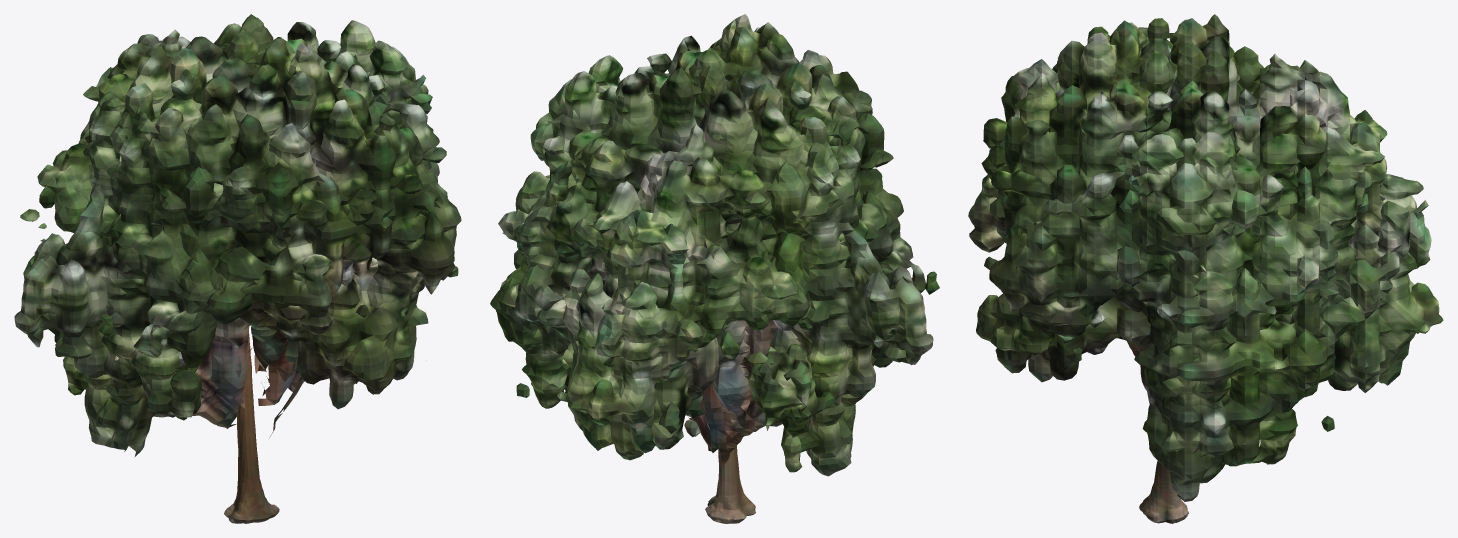
Rendered from tall_tree_giant.glb.
The picture shows the model from 3 angles, left to right: view 1: azimuth 30°, elevation 25°; view 2: azimuth 150°, elevation 25°; view 3: azimuth 270°, elevation 25°; orthographic projection. The views are drawn at different scales.
Parts seen in each view (by area): view 1: tree; view 2: tree; view 3: tree.
Boxes of the visible parts, box(x1,y1,x2,y2) form: tree: box(14, 14, 461, 523); tree: box(490, 14, 939, 523); tree: box(968, 14, 1443, 523).
Bounding box in the file's own units: 50.11 × 56 × 48.91.
1 material, 1 textured.
